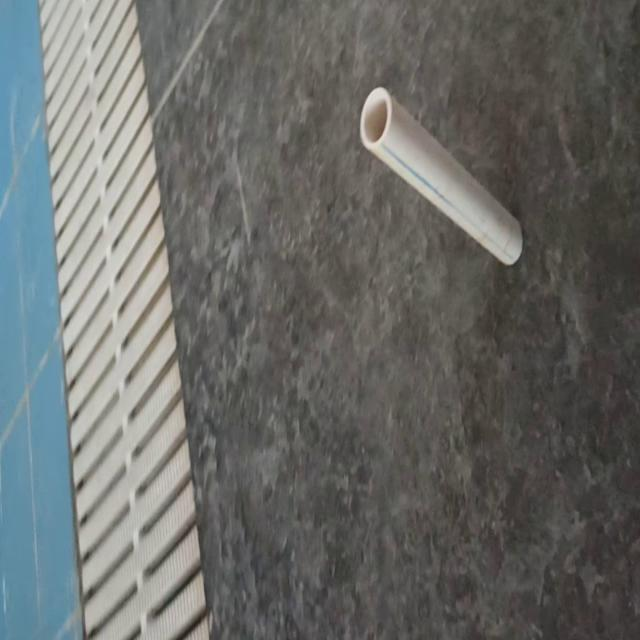Cube: (358, 84, 524, 266)
